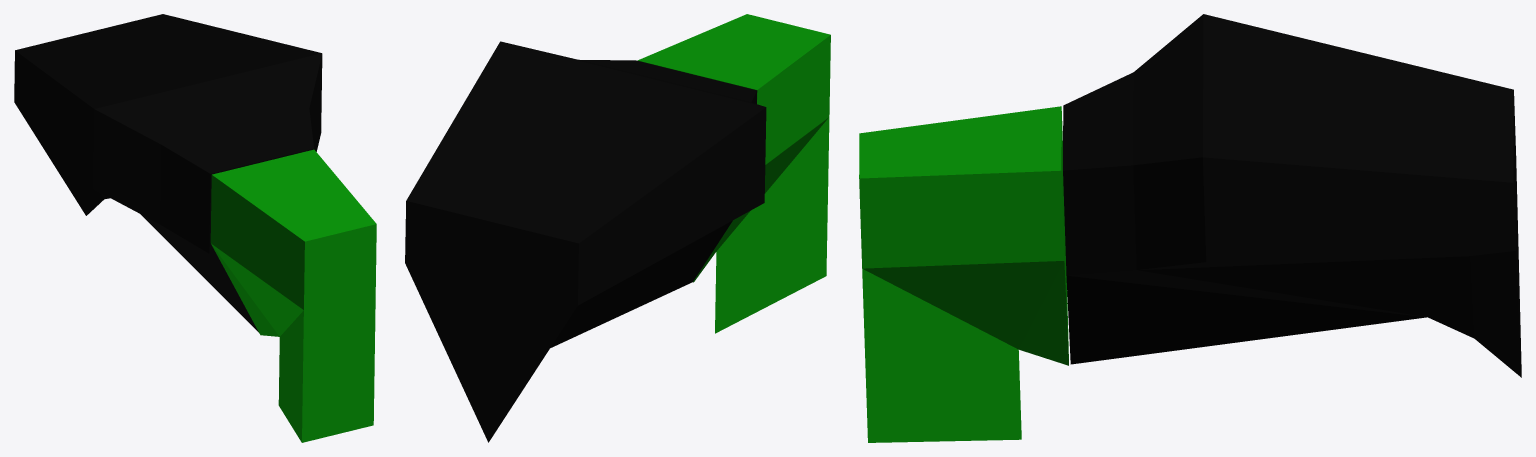
File: gargoyle.obj
3 renders of one model, left to right at view 1: azimuth 30°, elevation 25°; view 2: azimuth 150°, elevation 25°; view 3: azimuth 270°, elevation 25°, orthographic. The views are drawn at different scales.
Visible parts, largest first — view 1: gargoyle; view 2: gargoyle; view 3: gargoyle.
Boxes of the visible parts, bbox=[...] form: gargoyle: bbox=[14, 14, 376, 442]; gargoyle: bbox=[405, 14, 830, 442]; gargoyle: bbox=[859, 14, 1521, 442].
Size of the model in its own units: 7.72 by 8.85 by 15.01.
